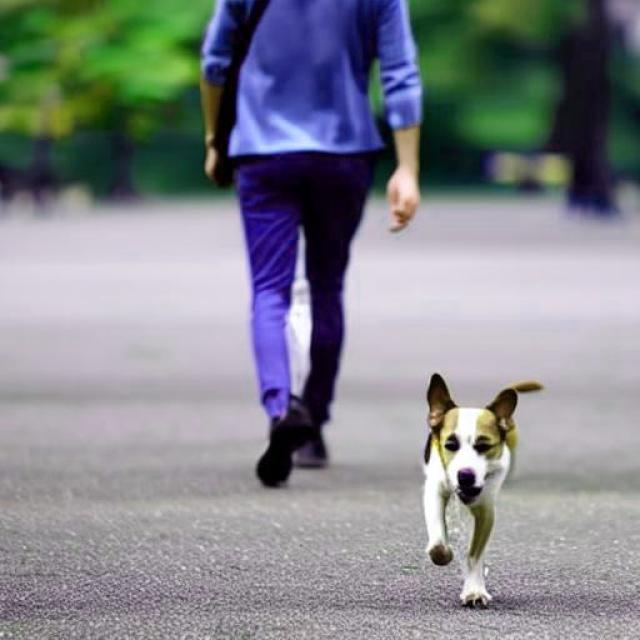Unleashed_Dog: (240, 154, 545, 608)
